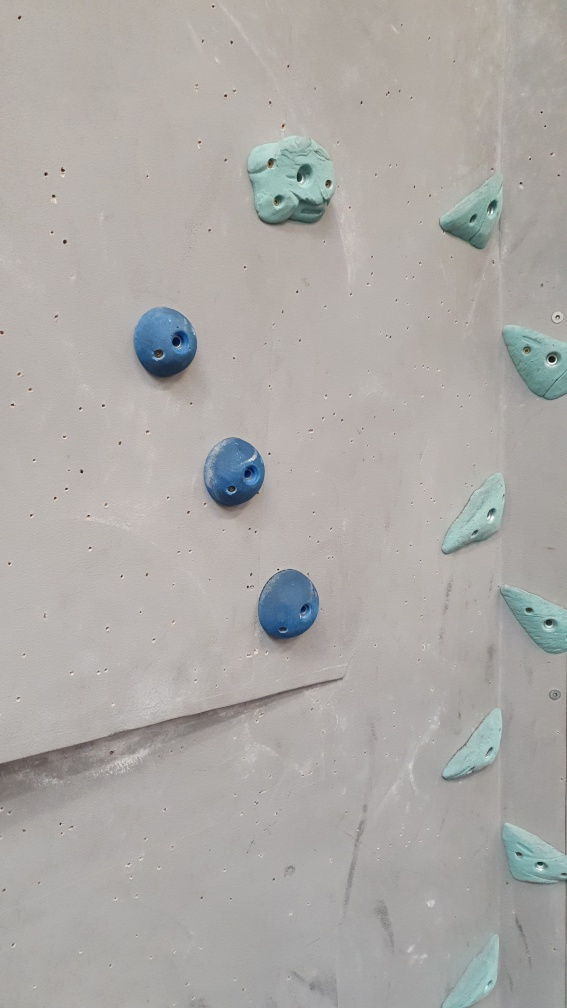Crimp: (433, 468, 513, 554), (494, 316, 567, 404), (435, 170, 506, 255), (438, 701, 504, 789), (427, 930, 501, 1008), (497, 579, 567, 659), (495, 817, 567, 885)
Sloper: (128, 299, 204, 389), (254, 559, 326, 648), (202, 432, 266, 513)
